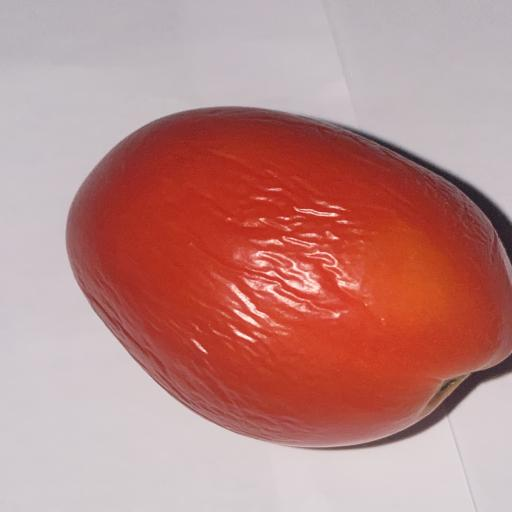spoiled: (67, 107, 512, 446)
